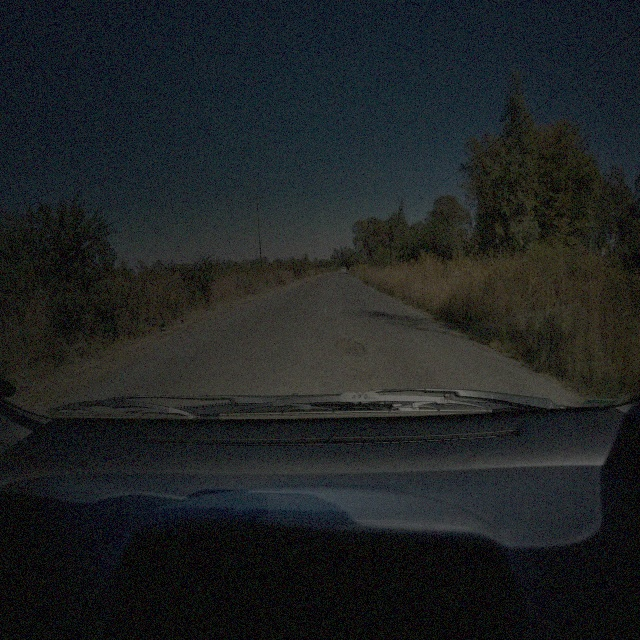pothole: (334, 337, 368, 359)
